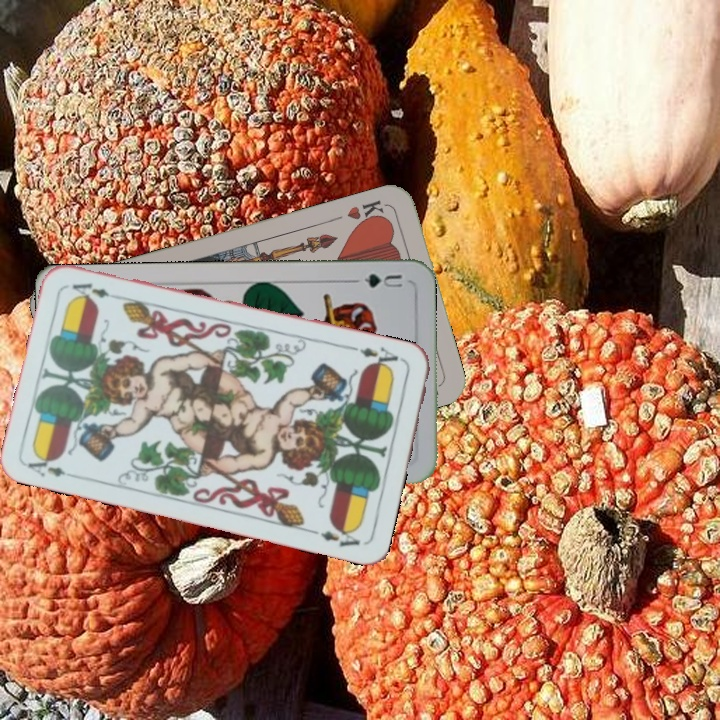EA: (23, 450, 81, 481), (349, 342, 407, 372)
GU: (360, 270, 405, 291)
HK: (343, 196, 389, 229)
